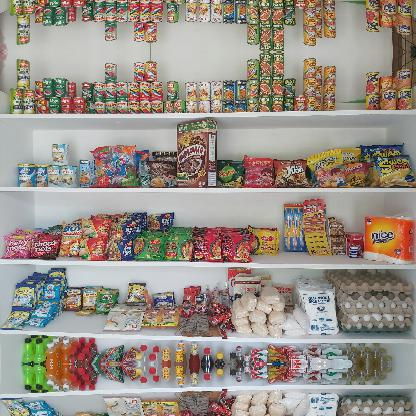Koko-Krunch: (177, 119, 217, 188)
